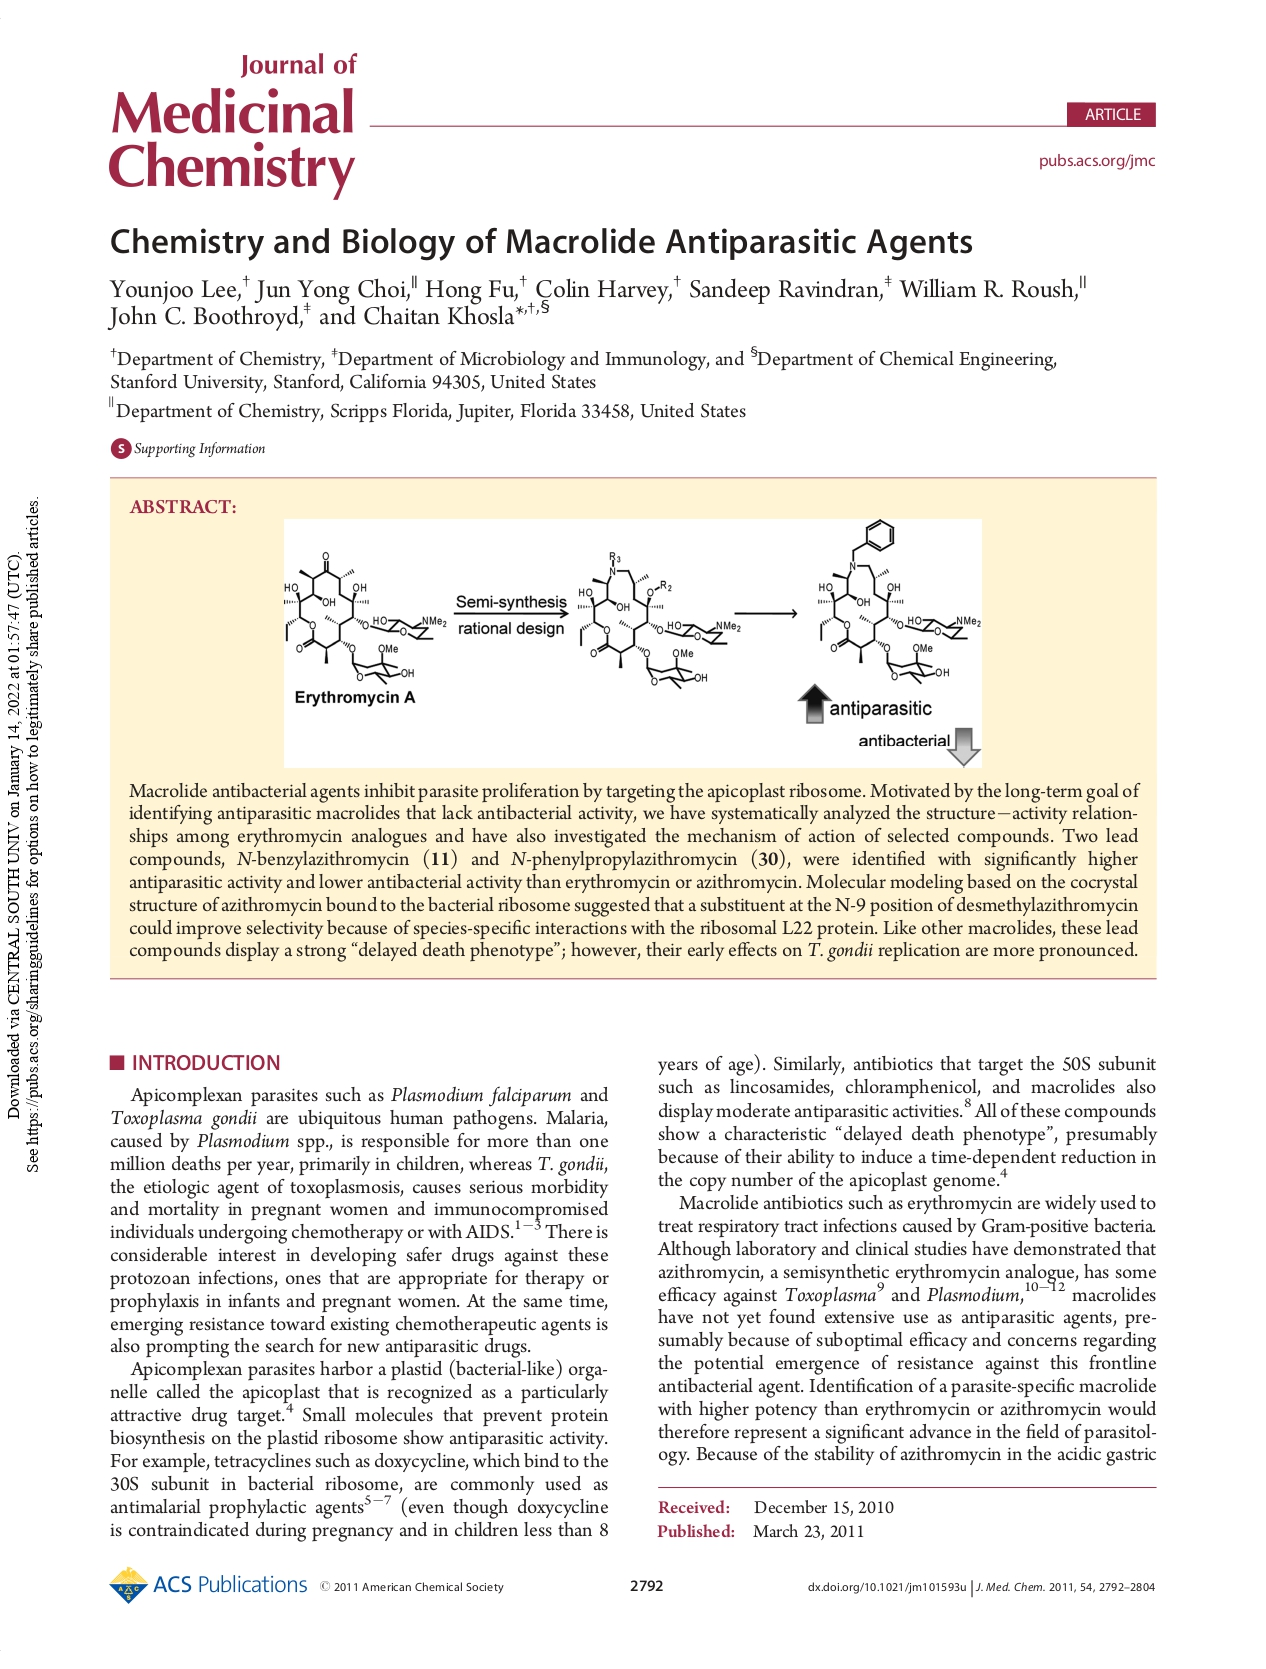exist_molecular: (814, 517, 981, 690), (574, 551, 742, 690), (283, 549, 448, 688)
